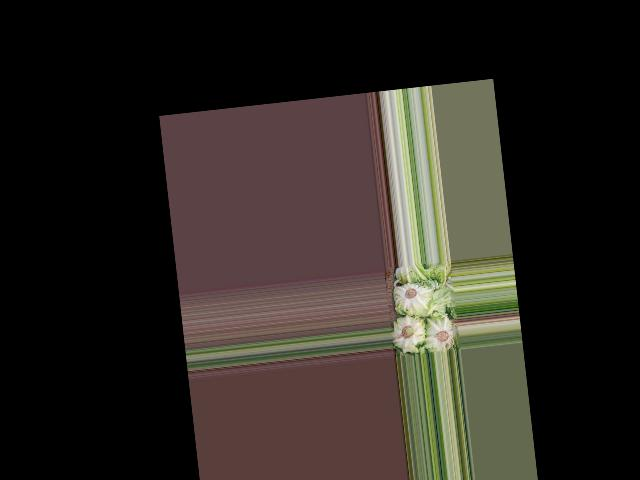lettuce: (422, 315, 456, 353)
